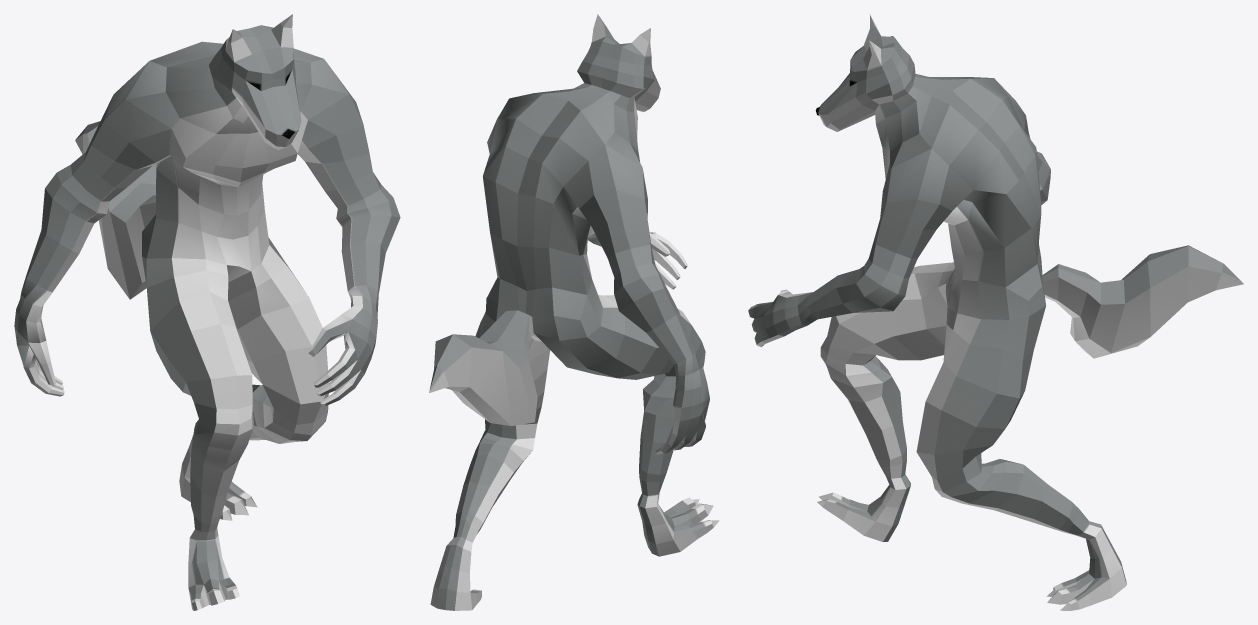
Rendered from WolfWalk(25).obj.
The picture shows the model from 3 angles, left to right: view 1: azimuth 30°, elevation 25°; view 2: azimuth 150°, elevation 25°; view 3: azimuth 270°, elevation 25°; orthographic projection. The views are drawn at different scales.
Parts seen in each view (by area): view 1: Box001; view 2: Box001; view 3: Box001.
Boxes of the visible parts, bbox=[...] form: Box001: bbox=[14, 14, 400, 610]; Box001: bbox=[429, 14, 719, 610]; Box001: bbox=[748, 14, 1243, 610].
Size of the model in its own units: 74.87 by 139 by 115.
